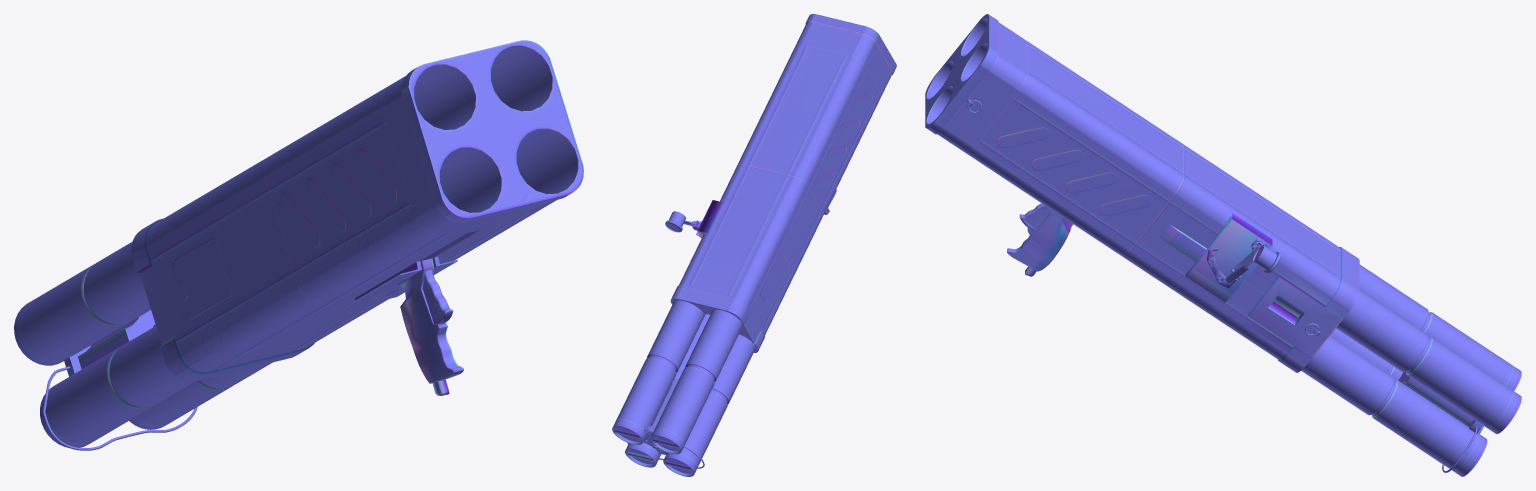
The model's file is mdlRocketLauncherPickup Variant.fbx.
3 renders of one model, left to right at view 1: azimuth 30°, elevation 25°; view 2: azimuth 150°, elevation 25°; view 3: azimuth 270°, elevation 25°, orthographic. The views are drawn at different scales.
Parts seen in each view (by area): view 1: Model, 24_+Additions|Rockets Base.rocketsroot_0.3_0_0; view 2: Model, 24_+Additions|Rockets Base.rocketsroot_0.3_0_0; view 3: Model, 24_+Additions|Rockets Base.rocketsroot_0.3_0_0.
Boxes of the visible parts, x1=… form: Model: x1=131, y1=40, x2=583, y2=395; 24_+Additions|Rockets Base.rocketsroot_0.3_0_0: x1=14, y1=241, x2=272, y2=450; Model: x1=665, y1=14, x2=896, y2=352; 24_+Additions|Rockets Base.rocketsroot_0.3_0_0: x1=612, y1=300, x2=755, y2=476; Model: x1=925, y1=14, x2=1359, y2=372; 24_+Additions|Rockets Base.rocketsroot_0.3_0_0: x1=1301, y1=264, x2=1521, y2=476.
Size of the model in its own units: 163 by 467 by 587.
